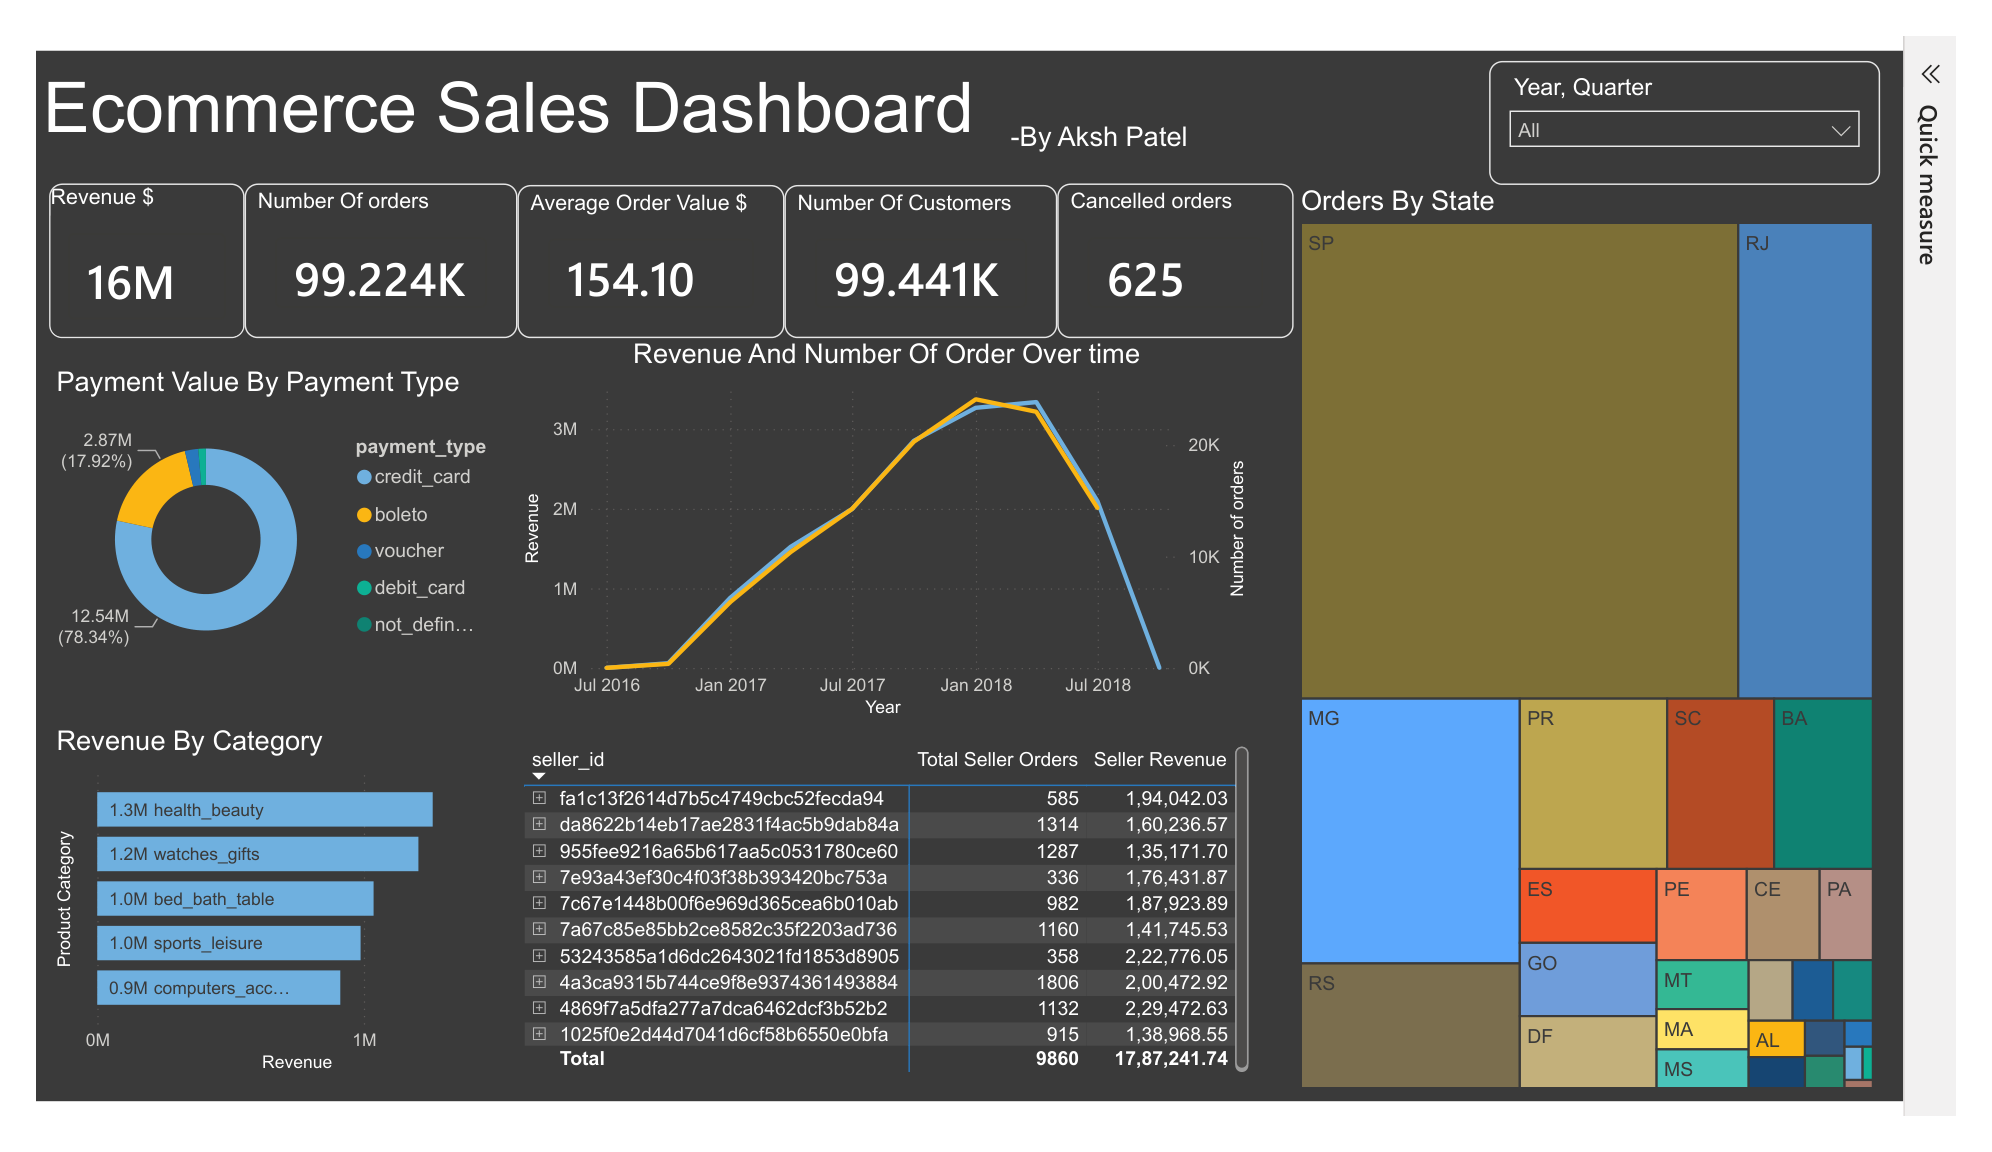

Layout of this report page (visuals, bound fields, positions):
{"tool":"powerbi","page":{"name":"Page 1","canvas":[1280,720],"ordinal":0},"visuals":[{"type":"lineChart","title":"Revenue And Number Of Order Over time ","fields":{"Y":["Sum(olist order_payments.payment_value)"],"Y2":["CountNonNull(olist order_items.order_id)"],"Category":["olist orders.order_purchase_timestamp.Variation.Date Hierarchy.Year","olist orders.order_purchase_timestamp.Variation.Date Hierarchy.Quarter","olist orders.order_purchase_timestamp.Variation.Date Hierarchy.Month"]},"box":[330.5,197.3,505.6,265.1],"z":0},{"type":"donutChart","title":"Payment Value By Payment Type","fields":{"Y":["Sum(olist order_payments.payment_value)"],"Category":["olist order_payments.payment_type"]},"box":[8.6,215.8,313.2,217],"z":1000},{"type":"clusteredBarChart","title":"Revenue By Category ","fields":{"Category":["olist product_category_name_translation.product_category_name_english"],"Y":["Sum(olist order_items.price)"]},"box":[8.6,462.4,321.8,242.9],"z":2000},{"type":"treemap","title":"Orders By State","fields":{"Group":["olist geolocation.geolocation_state"],"Values":["Count(olist orders.order_id)"]},"box":[862,92.5,402,624],"z":3000},{"type":"pivotTable","fields":{"Rows":["olist sellers.seller_id","olist sellers.seller_city"],"Values":["olist sellers.Total Seller Orders","olist sellers.Seller Revenue"]},"box":[330.5,472.3,505.6,233.1],"z":4000},{"type":"cardVisual","title":"Revenue $","fields":{"Data":["Sum(olist order_payments.payment_value)"]},"box":[8.6,91.3,134.4,106.1],"z":5000},{"type":"cardVisual","title":"Number Of orders","fields":{"Data":["CountNonNull(olist order_reviews.order_id)"]},"box":[143,91.3,187.4,106.1],"z":6000},{"type":"cardVisual","title":"Average Order Value $","fields":{"Data":["Avg(olist order_payments.payment_value)"]},"box":[330.5,92.5,182.5,104.8],"z":7000},{"type":"cardVisual","title":"Number Of Customers","fields":{"Data":["Count(olist orders.customer_id)"]},"box":[513,92.5,187.4,104.8],"z":8000},{"type":"cardVisual","title":"Cancelled orders","fields":{"Data":["olist orders.Canceled Orders Count"]},"box":[700.4,91.3,161.5,106.1],"z":9000},{"type":"slicer","fields":{"Values":["olist orders.order_purchase_timestamp.Variation.Date Hierarchy.Year","olist orders.order_purchase_timestamp.Variation.Date Hierarchy.Quarter"]},"box":[995.8,7.1,267.8,85.1],"z":10000},{"type":"textbox","box":[0,6.7,663.3,73.3],"z":10001},{"type":"textbox","box":[663.3,43.3,198.3,36.7],"z":10002}]}

Visuals, with their boxes on the page's 1280x720 design canvas (x1, y1, x2, y2). These are canvas units, not pixel positions in the 1992x1152 screenshot, which may show the page scaled, cropped or inside an application window:
"Revenue And Number Of Order Over time " lineChart: (x1=330, y1=197, x2=836, y2=462)
"Payment Value By Payment Type" donutChart: (x1=9, y1=216, x2=322, y2=433)
"Revenue By Category " clusteredBarChart: (x1=9, y1=462, x2=330, y2=705)
"Orders By State" treemap: (x1=862, y1=92, x2=1264, y2=716)
pivotTable - olist sellers.seller_id x olist sellers.seller_city: (x1=330, y1=472, x2=836, y2=705)
"Revenue $" cardVisual: (x1=9, y1=91, x2=143, y2=197)
"Number Of orders" cardVisual: (x1=143, y1=91, x2=330, y2=197)
"Average Order Value $" cardVisual: (x1=330, y1=92, x2=513, y2=197)
"Number Of Customers" cardVisual: (x1=513, y1=92, x2=700, y2=197)
"Cancelled orders" cardVisual: (x1=700, y1=91, x2=862, y2=197)
slicer - olist orders.order_purchase_timestamp.Variation.Date Hierarchy.Year x olist orders.order_purchase_timestamp.Variation.Date Hierarchy.Quarter: (x1=996, y1=7, x2=1264, y2=92)
textbox: (x1=0, y1=7, x2=663, y2=80)
textbox: (x1=663, y1=43, x2=862, y2=80)
